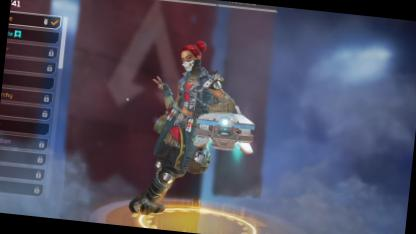Target: (136, 30, 232, 193)
